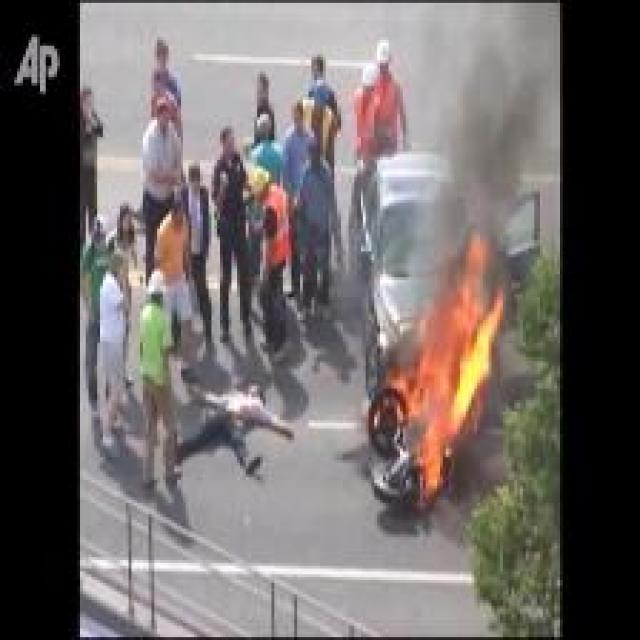Fire: (383, 233, 503, 493)
